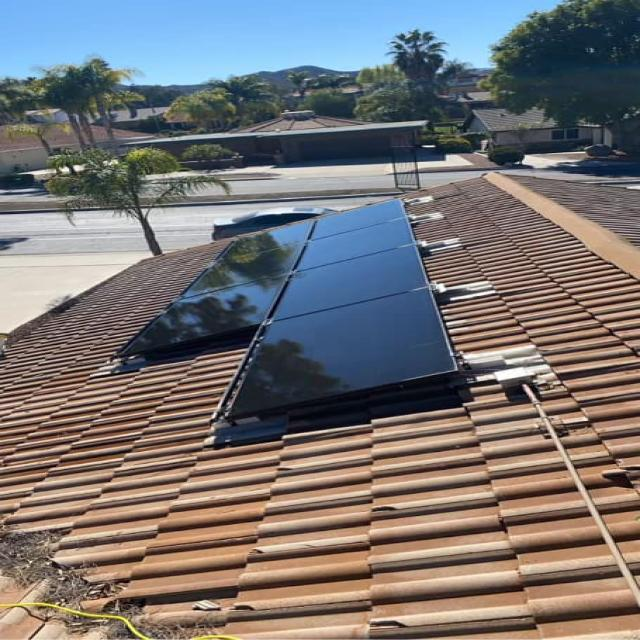clean-solar-panel: (119, 200, 458, 420)
